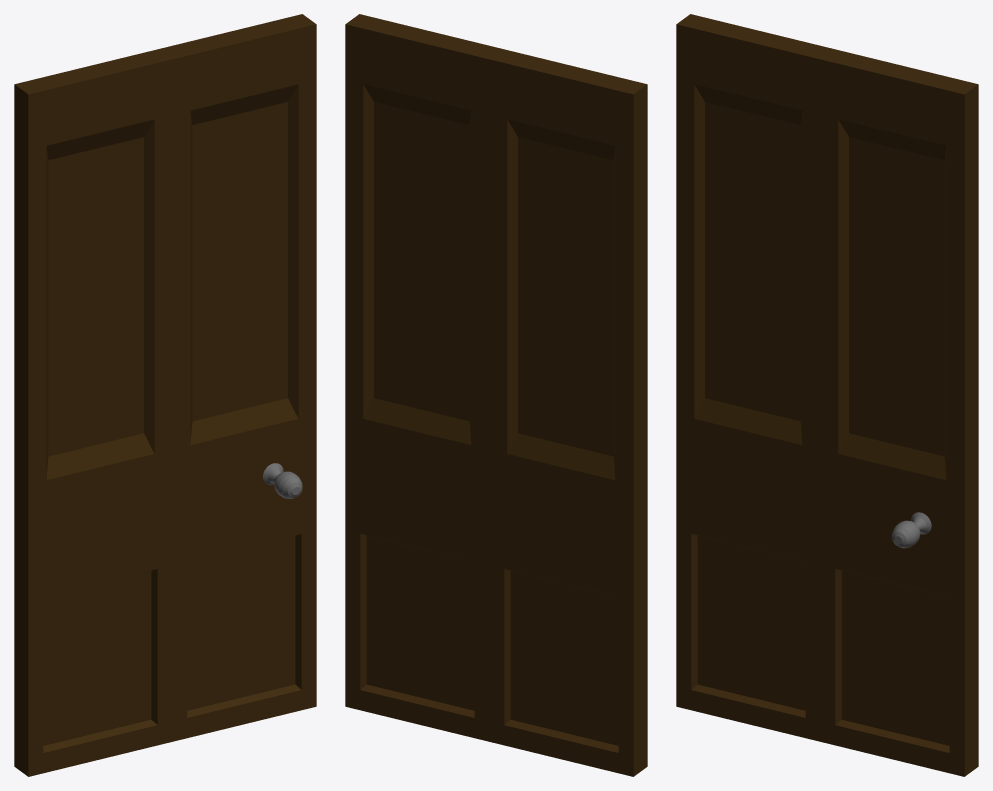
The model's file is CPI441_Fur_Door1_V3_O2.fbx.
3 renders of one model, left to right at view 1: azimuth 30°, elevation 25°; view 2: azimuth 150°, elevation 25°; view 3: azimuth 330°, elevation 25°, orthographic.
Parts seen in each view (by area): view 1: Circle; view 2: Circle; view 3: Circle.
Boxes of the visible parts, <box> form: Circle: <box>14,14,316,776</box>; Circle: <box>345,14,647,776</box>; Circle: <box>676,14,978,776</box>.
Size of the model in its own units: 440 by 997 by 97.84.
